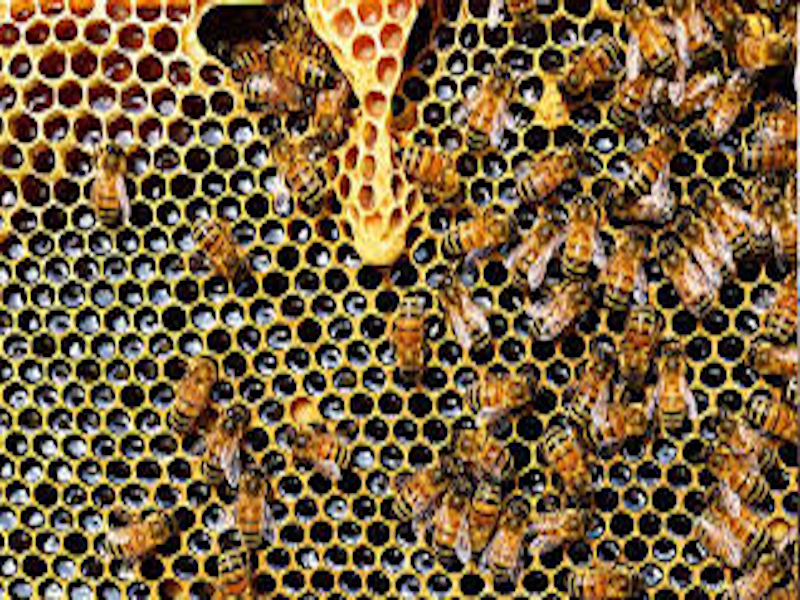abeja: (155, 353, 224, 454), (458, 57, 523, 155), (260, 128, 329, 215), (183, 210, 250, 287), (440, 205, 522, 265), (386, 292, 434, 386), (515, 137, 580, 206), (232, 463, 280, 556), (92, 134, 136, 226)
